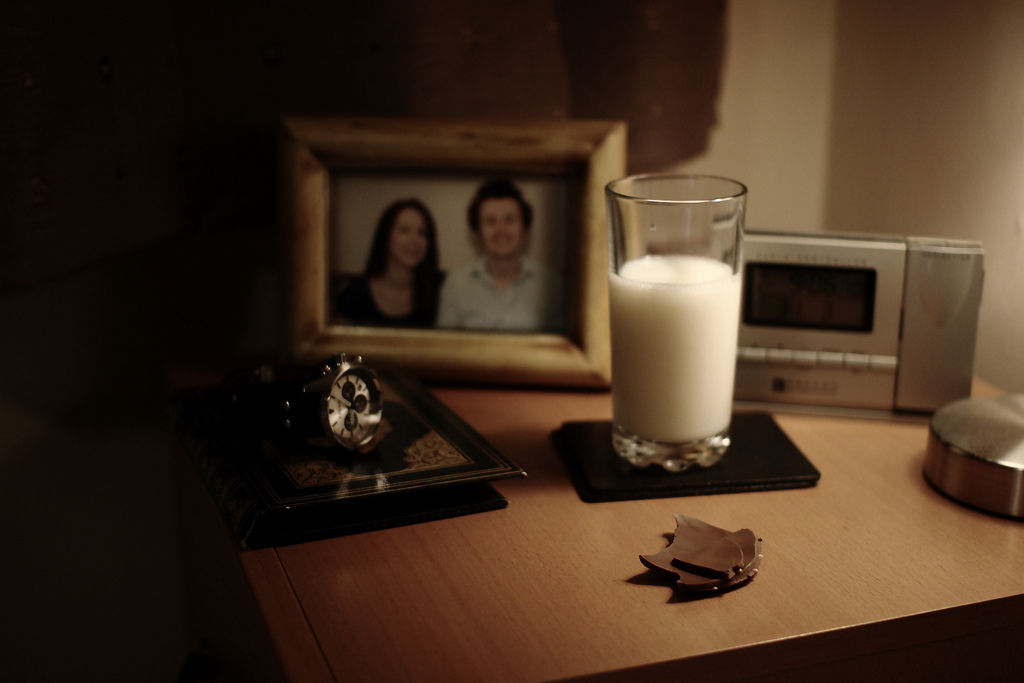glass of milk: (610, 166, 738, 461)
